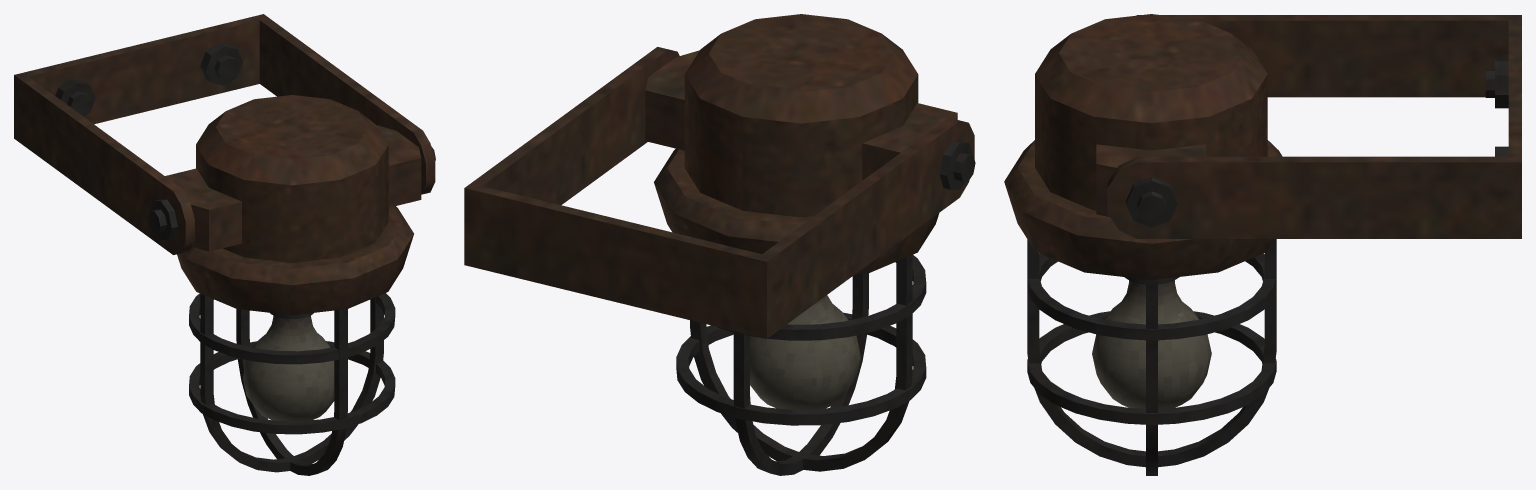
The model's file is lamp_mx_1_a_off.obj.
3 views of the same model, side by side, from view 1: azimuth 30°, elevation 25°; view 2: azimuth 150°, elevation 25°; view 3: azimuth 270°, elevation 25° (orthographic). The views are drawn at different scales.
Visible parts, largest first — view 1: lamp_mx_1_a_off; view 2: lamp_mx_1_a_off; view 3: lamp_mx_1_a_off.
Boxes of the visible parts, left/top/right/bottom form: lamp_mx_1_a_off: left=14, top=14, right=435, bottom=475; lamp_mx_1_a_off: left=464, top=14, right=975, bottom=475; lamp_mx_1_a_off: left=1004, top=14, right=1521, bottom=475.
Bounding box in the file's own units: 0.2245 × 0.2657 × 0.3023.
